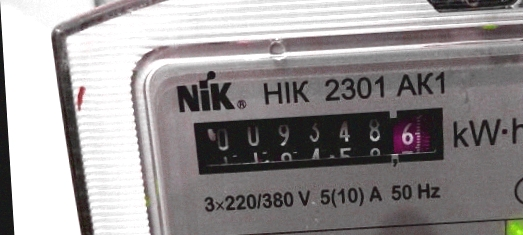0: (244, 122, 261, 146), (215, 124, 229, 151)
3: (305, 118, 321, 144)
4: (335, 116, 351, 144)
6: (398, 119, 416, 147)
8: (365, 115, 382, 144)
9: (274, 120, 291, 147)
screen: (183, 98, 456, 184)
